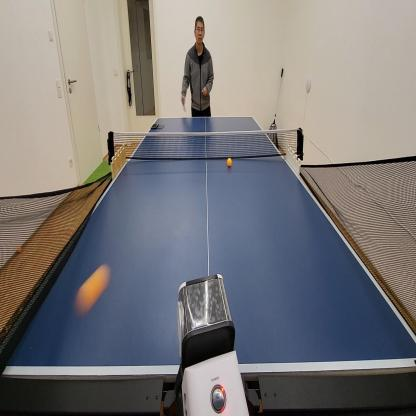Ball: (73, 262, 112, 316), (226, 156, 232, 168), (17, 244, 22, 253)
